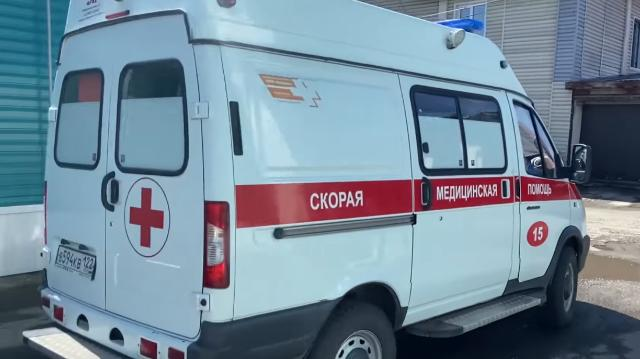ambulance: (38, 1, 587, 359)
